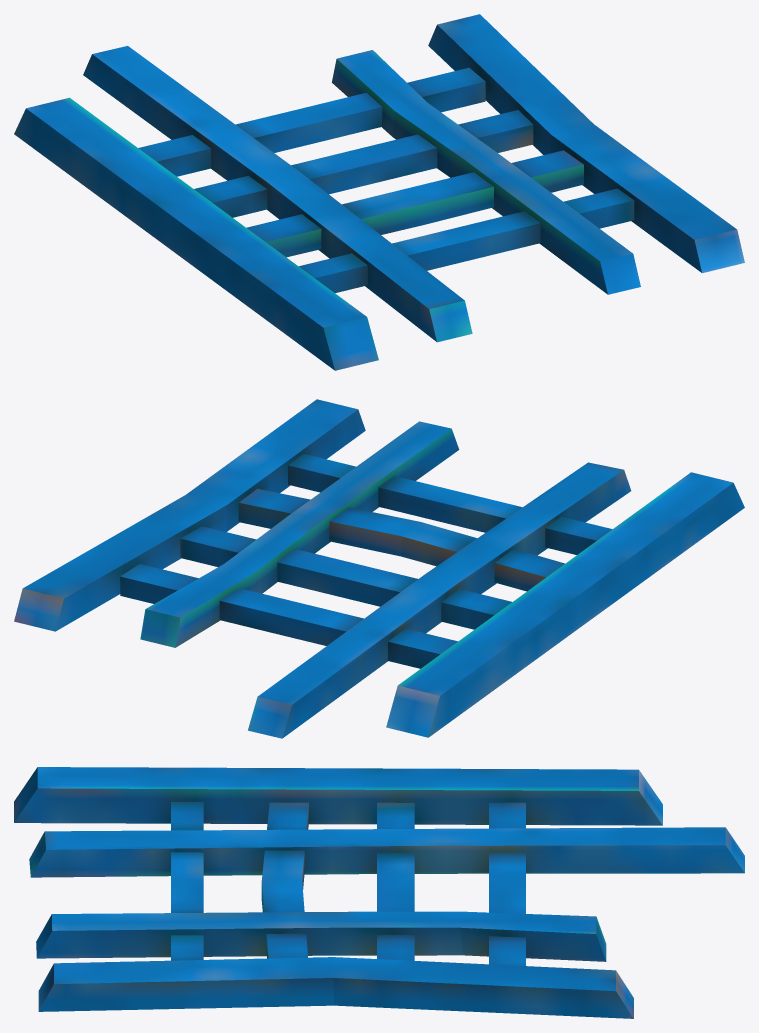
Rendered from junk_00-v3.glb.
3 renders of one model, top to bottom at view 1: azimuth 30°, elevation 25°; view 2: azimuth 150°, elevation 25°; view 3: azimuth 270°, elevation 25°, orthographic. The views are drawn at different scales.
Parts seen in each view (by area): view 1: junk_00; view 2: junk_00; view 3: junk_00.
Part boxes in pixels (x1,y1,x2,y2): junk_00: [14, 14, 744, 370]; junk_00: [14, 399, 744, 738]; junk_00: [14, 767, 744, 1018].
Bounding box in the file's own units: 2.26 × 0.1906 × 3.21.
1 material, 1 textured.
